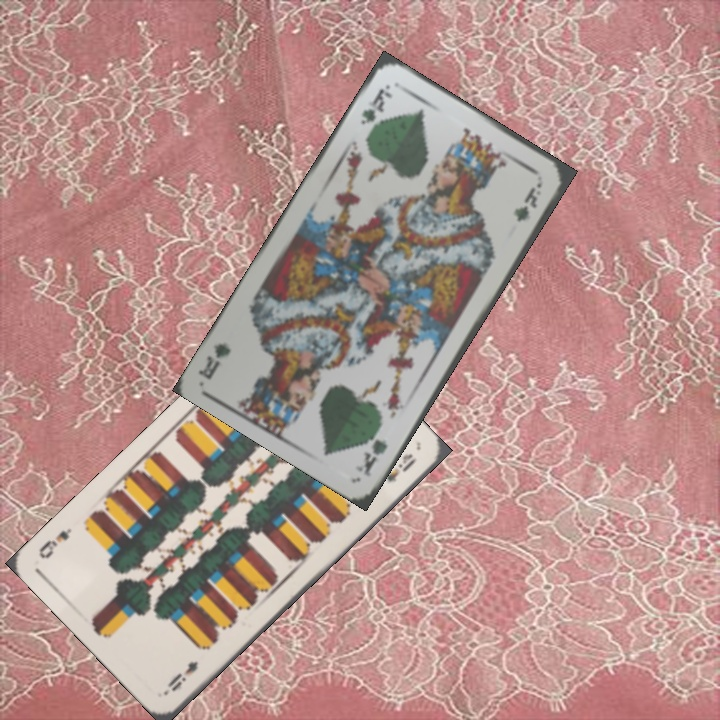E9: (163, 656, 201, 695)
GK: (356, 82, 395, 128), (351, 435, 391, 479)
